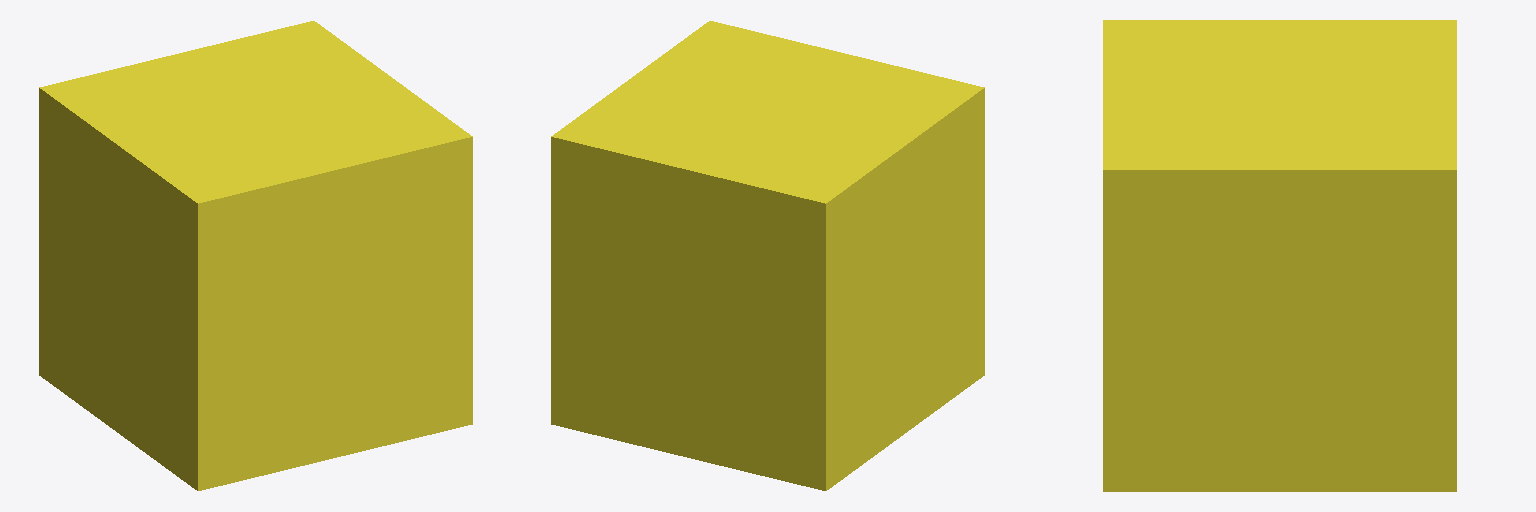
The robot description file, URDF, robot "boxbot":
<?xml version="1.0" encoding="utf-8"?>
<!-- =================================================================================== -->
<!-- |    This document was autogenerated by xacro from boxbot.xacro                   | -->
<!-- |    EDITING THIS FILE BY HAND IS NOT RECOMMENDED                                 | -->
<!-- =================================================================================== -->
<robot name="boxbot" xmlns:xacro="http://ros.org/wiki/xacro" xmlns:tesseract="https://github.com/tesseract-robotics/tesseract" tesseract:make_convex="true">
  <link name="base_link"/>
  <link name="boxbot_linkX"/>
  <link name="boxbot_linkY"/>
  <link name="boxbot_link">
    <visual>
      <origin rpy="0 0 0" xyz="0 0 0"/>
      <geometry>
        <box size="1 1 1"/>
      </geometry>
    </visual>
    <collision>
      <geometry>
        <box size="1 1 1"/>
      </geometry>
    </collision>
  </link>
  <joint name="boxbot_x_joint" type="prismatic">
    <origin rpy="0 0 0" xyz="0 0 0"/>
    <parent link="base_link"/>
    <child link="boxbot_linkX"/>
    <axis xyz="1 0 0"/>
    <limit effort="0" lower="-20.0" upper="20.0" velocity="2.0"/>
  </joint>
  <joint name="boxbot_y_joint" type="prismatic">
    <origin rpy="0 0 0" xyz="0 0 0"/>
    <parent link="boxbot_linkX"/>
    <child link="boxbot_linkY"/>
    <axis xyz="0 1 0"/>
    <limit effort="0" lower="-20.0" upper="20.0" velocity="2.0"/>
  </joint>
  <joint name="boxbot_joint" type="fixed">
    <origin rpy="0 0 0" xyz="0 0 0"/>
    <parent link="boxbot_linkY"/>
    <child link="boxbot_link"/>
  </joint>
  <link name="test_base_link"/>
  <link name="test_box_link">
    <visual>
      <origin rpy="0 0 0" xyz="0 0 0"/>
      <geometry>
        <box size="1 1 1"/>
      </geometry>
      <material name="Green">
        <color rgba="0 1.0 0.0 1.0"/>
      </material>
    </visual>
    <collision>
      <geometry>
        <box size="1 1 1"/>
      </geometry>
    </collision>
  </link>
  <joint name="test_box_joint" type="fixed">
    <origin rpy="0 0 0" xyz="0 0 0"/>
    <parent link="test_base_link"/>
    <child link="test_box_link"/>
  </joint>
  <joint name="attach_box_joint" type="fixed">
    <origin rpy="0 0 0" xyz="0 0 0"/>
    <parent link="base_link"/>
    <child link="test_base_link"/>
  </joint>
  <link name="no_geom_link"/>
  <joint name="no_geom_joint" type="fixed">
    <origin rpy="0 0 0" xyz="0.5 -0.5 0"/>
    <parent link="boxbot_link"/>
    <child link="no_geom_link"/>
  </joint>
</robot>

--- Render facts (derived) ---
The picture shows the robot from 3 angles, left to right: view 1: azimuth 30°, elevation 25°; view 2: azimuth 150°, elevation 25°; view 3: azimuth 270°, elevation 25°; orthographic projection.
Model boxbot with 7 links and 6 joints (2 prismatic, 4 fixed), rooted at base_link, posed all joints at 0.
Visible links, largest first — view 1: boxbot_link; view 2: boxbot_link; view 3: boxbot_link.
Boxes of the visible links, x1,y1,x2,y2 form: boxbot_link: (39, 21, 472, 490); boxbot_link: (551, 21, 984, 490); boxbot_link: (1103, 20, 1456, 491).
Size in the robot's own frame: 1 by 1 by 1 metres.
Geometry: primitives only (box / cylinder / sphere), no mesh files.